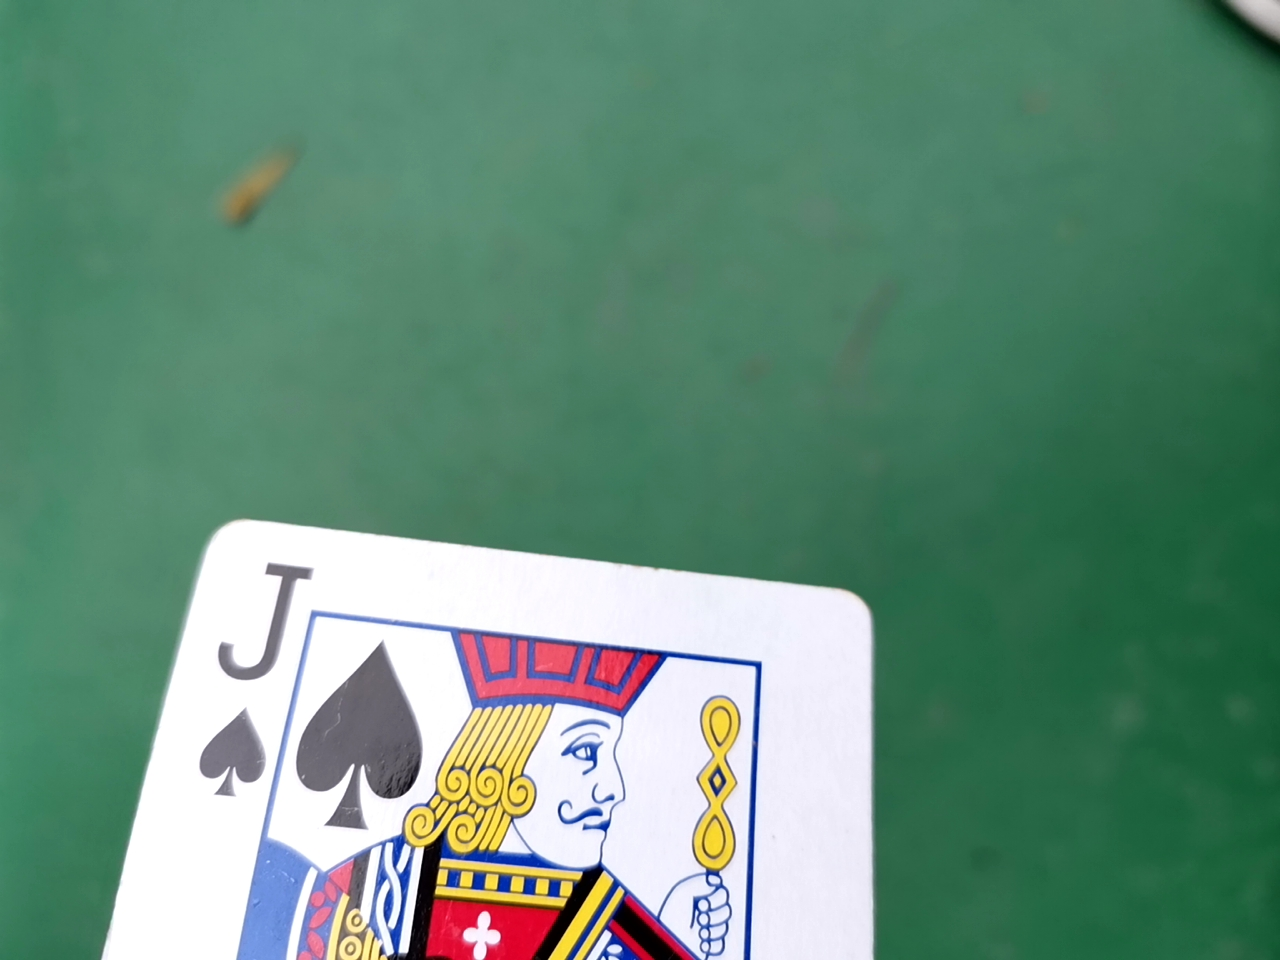ht j: (12, 514, 877, 957)
